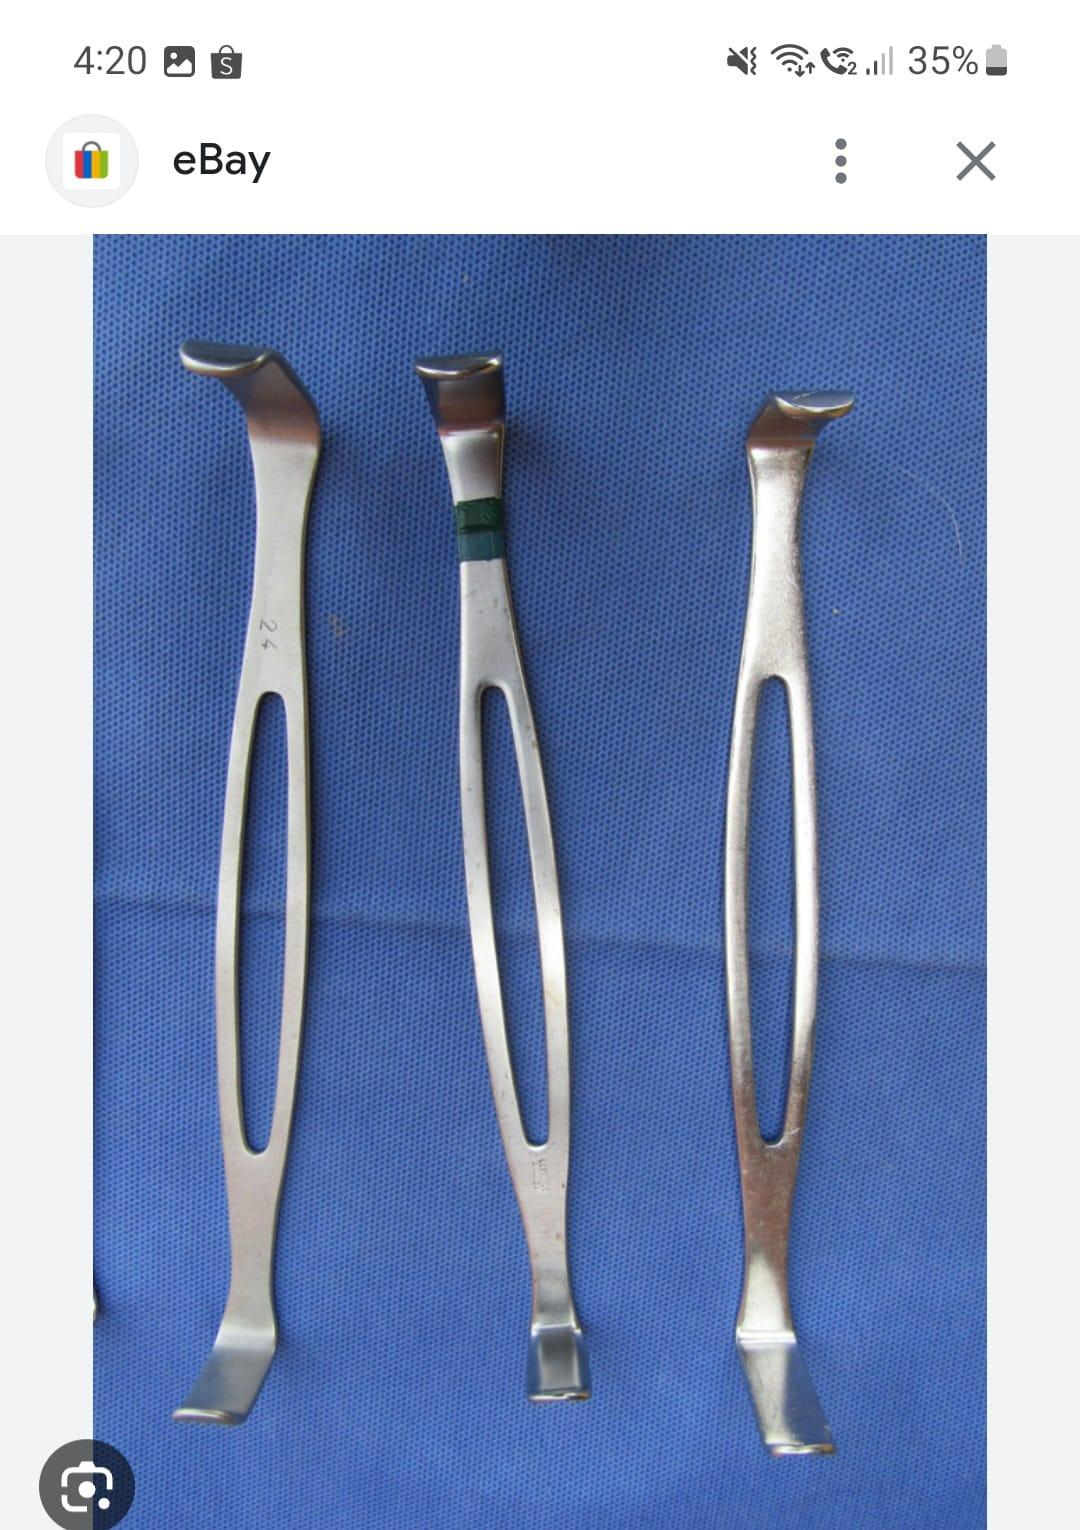Army Navy Retractor: (138, 295, 390, 1438), (408, 335, 643, 1418), (707, 347, 880, 1475)
